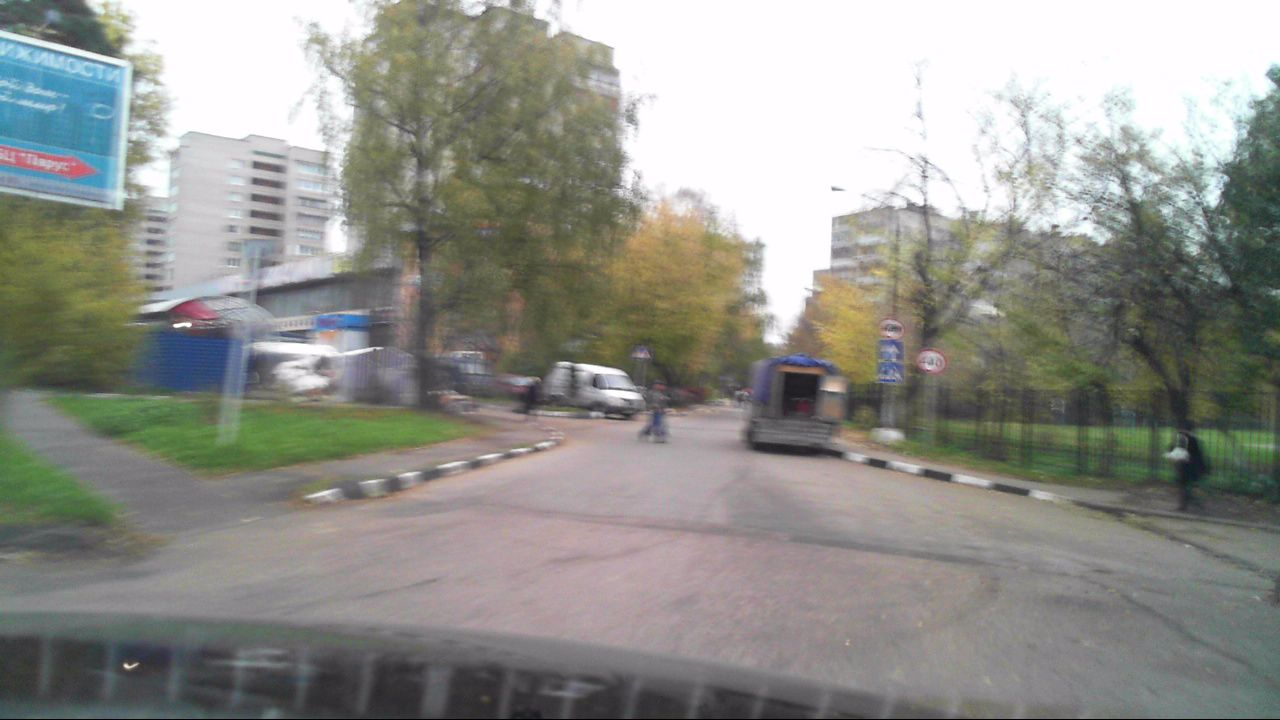speed_warning_40: (923, 349, 945, 372)
